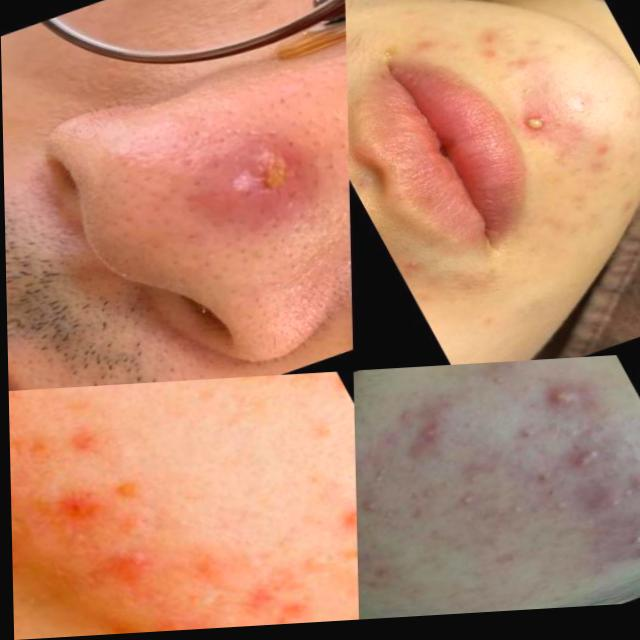8: (57, 530, 169, 617), (354, 487, 393, 530), (355, 561, 398, 594), (525, 469, 557, 494)
9: (507, 107, 562, 150), (560, 443, 615, 481), (441, 488, 486, 524), (490, 498, 540, 530), (538, 391, 583, 422), (611, 528, 640, 557), (401, 260, 421, 277)
blackheads: (32, 470, 126, 539), (399, 416, 454, 459)
dark spot: (324, 503, 355, 544)
pustules: (142, 102, 349, 262), (578, 477, 640, 531)
